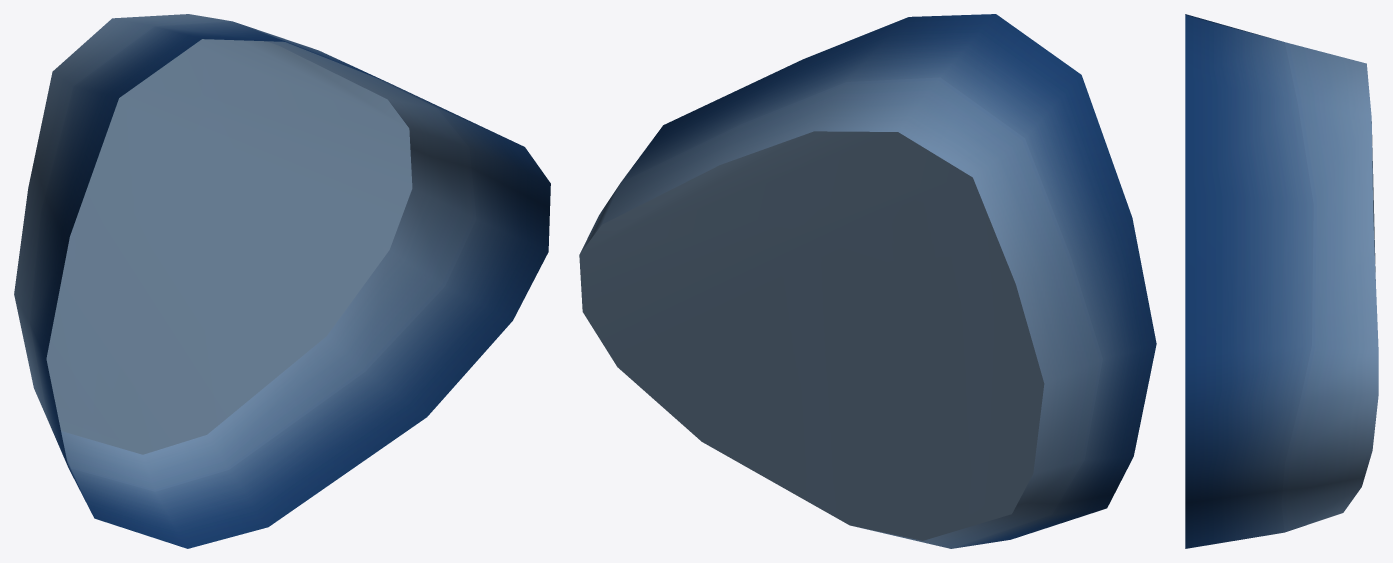
Rendered from Rock 01.FBX.
3 renders of one model, left to right at view 1: azimuth 30°, elevation 25°; view 2: azimuth 150°, elevation 25°; view 3: azimuth 270°, elevation 25°, orthographic. The views are drawn at different scales.
Parts seen in each view (by area): view 1: Rock 01; view 2: Rock 01; view 3: Rock 01.
Part boxes in pixels (x1,y1,x2,y2): Rock 01: (14,14,550,548); Rock 01: (579,14,1156,548); Rock 01: (1185,14,1378,548).
Bounding box in the file's own units: 144 × 138 × 48.51.
Materials: 1 (1 with a texture image).
